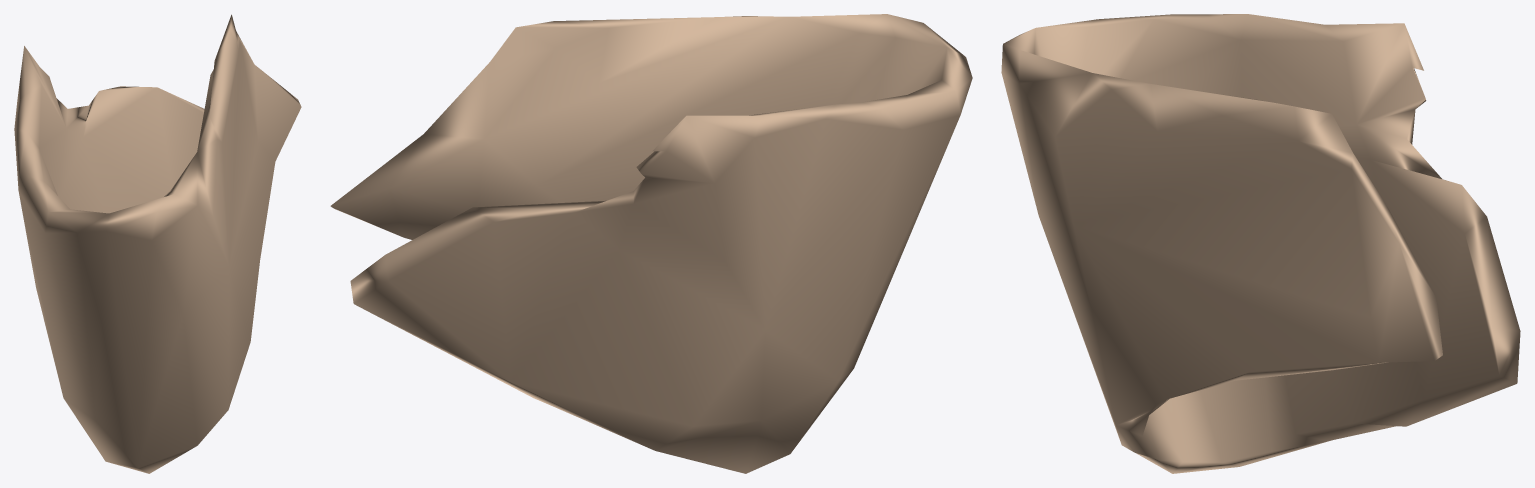
3 renders of one model, left to right at view 1: azimuth 30°, elevation 25°; view 2: azimuth 150°, elevation 25°; view 3: azimuth 270°, elevation 25°, orthographic. The views are drawn at different scales.
Parts seen in each view (by area): view 1: 右侧二腹肌中间腱; view 2: 右侧二腹肌中间腱; view 3: 右侧二腹肌中间腱.
Part boxes in pixels (box(x1,y1,x2,y2)): 右侧二腹肌中间腱: box(14, 14, 301, 473); 右侧二腹肌中间腱: box(330, 14, 972, 473); 右侧二腹肌中间腱: box(1001, 14, 1520, 473).
Bounding box in the file's own units: 0.0116 × 0.0105 × 0.011.
